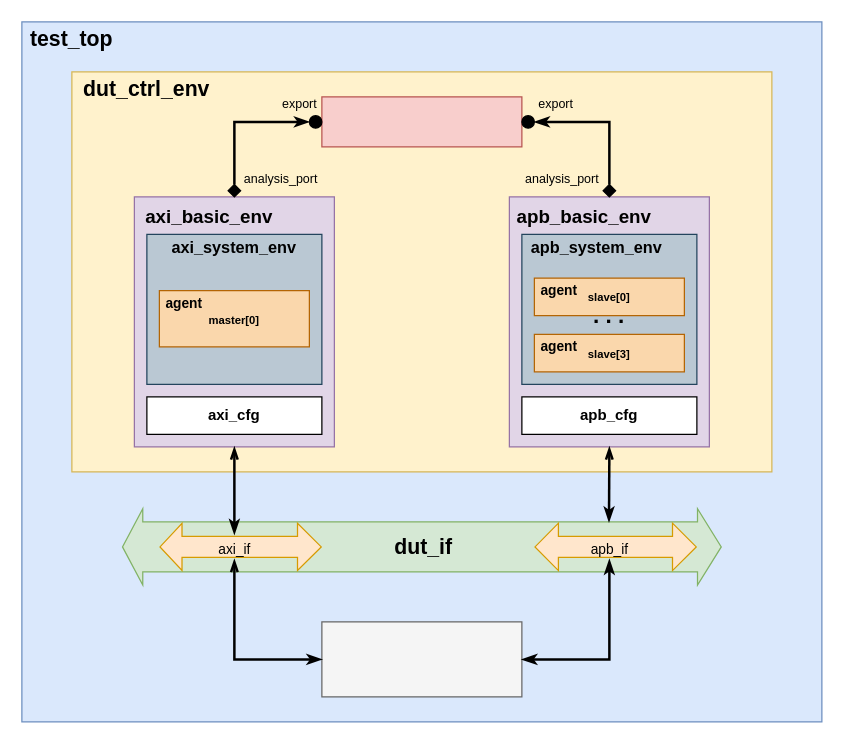
Image size: 844x744. Some labels were removed from this diagram. The centre of each missing label's shape, as x and y in pixels:
DUT: pixel 421 659
SCOREBOARD: pixel 421 121
